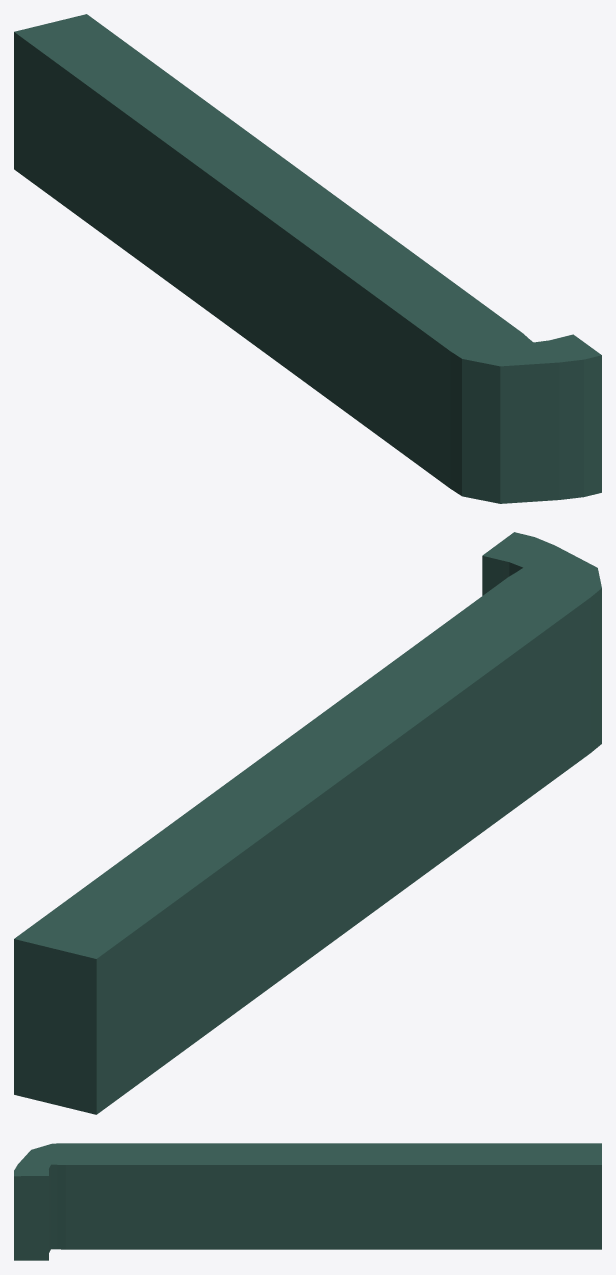
File: wall extension.fbx
3 views of the same model, one above another, from view 1: azimuth 30°, elevation 25°; view 2: azimuth 150°, elevation 25°; view 3: azimuth 270°, elevation 25° (orthographic). The views are drawn at different scales.
Visible parts, largest first — view 1: pCube268; view 2: pCube268; view 3: pCube268.
Part boxes in pixels (x1,y1,x2,y2): pCube268: (14,14,601,503); pCube268: (14,532,601,1114); pCube268: (14,1143,601,1260).
Bounding box in the file's own units: 30.74 × 36.85 × 232.
